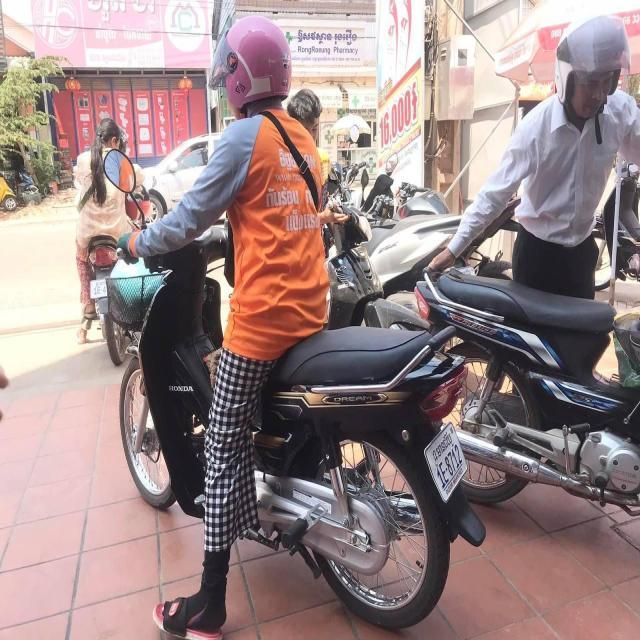Oudor_Meanchey: (433, 429, 453, 462)
